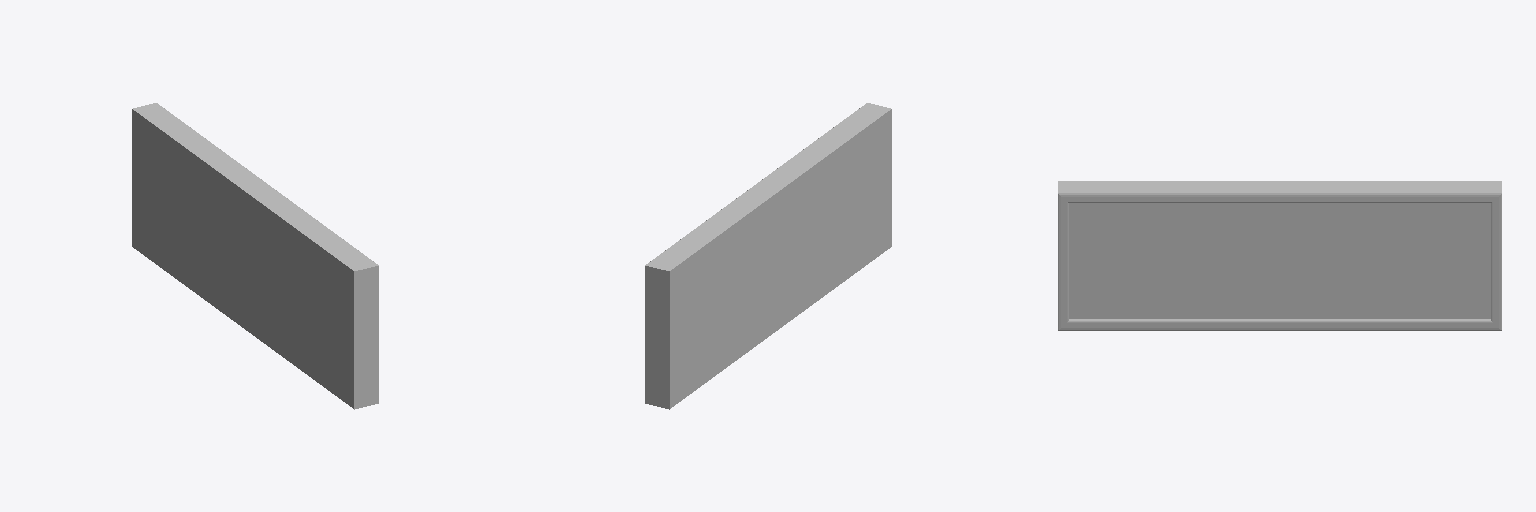
File: display.obj
3 views of the same model, side by side, from view 1: azimuth 30°, elevation 25°; view 2: azimuth 150°, elevation 25°; view 3: azimuth 270°, elevation 25° (orthographic).
Parts seen in each view (by area): view 1: display_Cube.004; view 2: display_Cube.004; view 3: display_Cube.004.
Boxes of the visible parts, x1,y1,x2,y2 form: display_Cube.004: [132, 103, 378, 409]; display_Cube.004: [645, 103, 891, 409]; display_Cube.004: [1058, 181, 1501, 330].
Bounding box in the file's own units: 0.0978 × 0.5044 × 1.47.